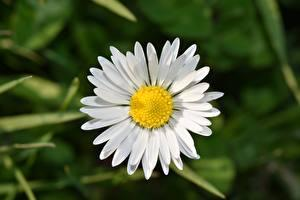chamomile: (108, 64, 203, 163)
